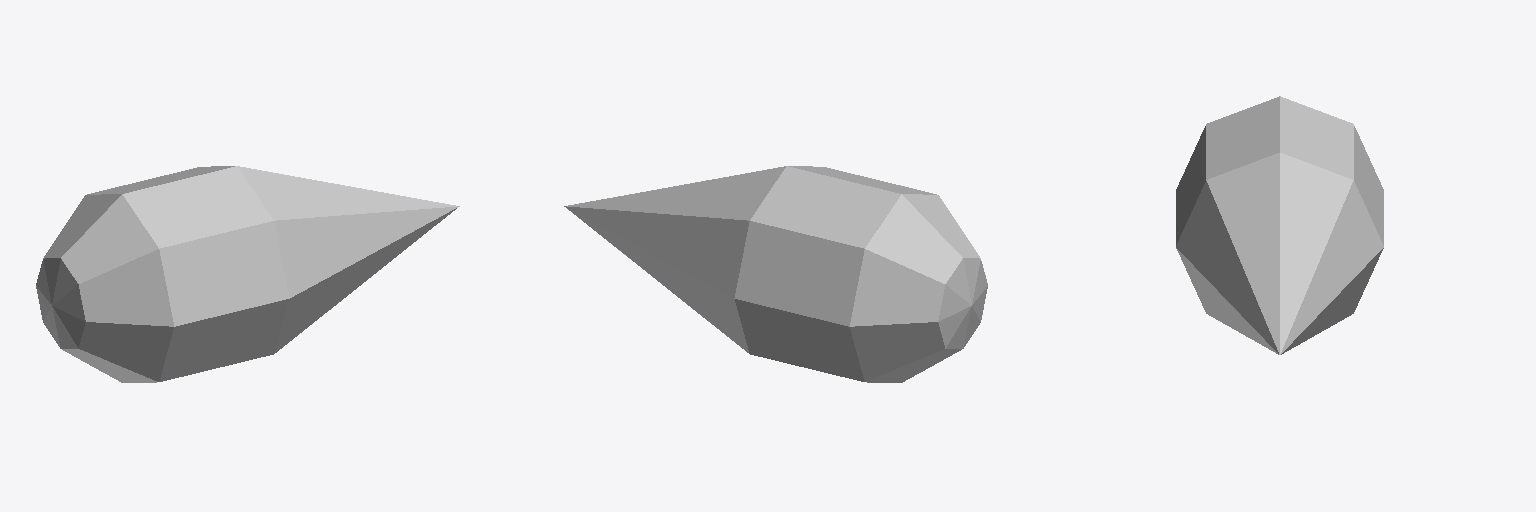
File: tree1_.obj
The picture shows the model from 3 angles: view 1: azimuth 30°, elevation 25°; view 2: azimuth 150°, elevation 25°; view 3: azimuth 270°, elevation 25°; orthographic projection.
Size of the model in its own units: 2.99 by 1.33 by 1.33.